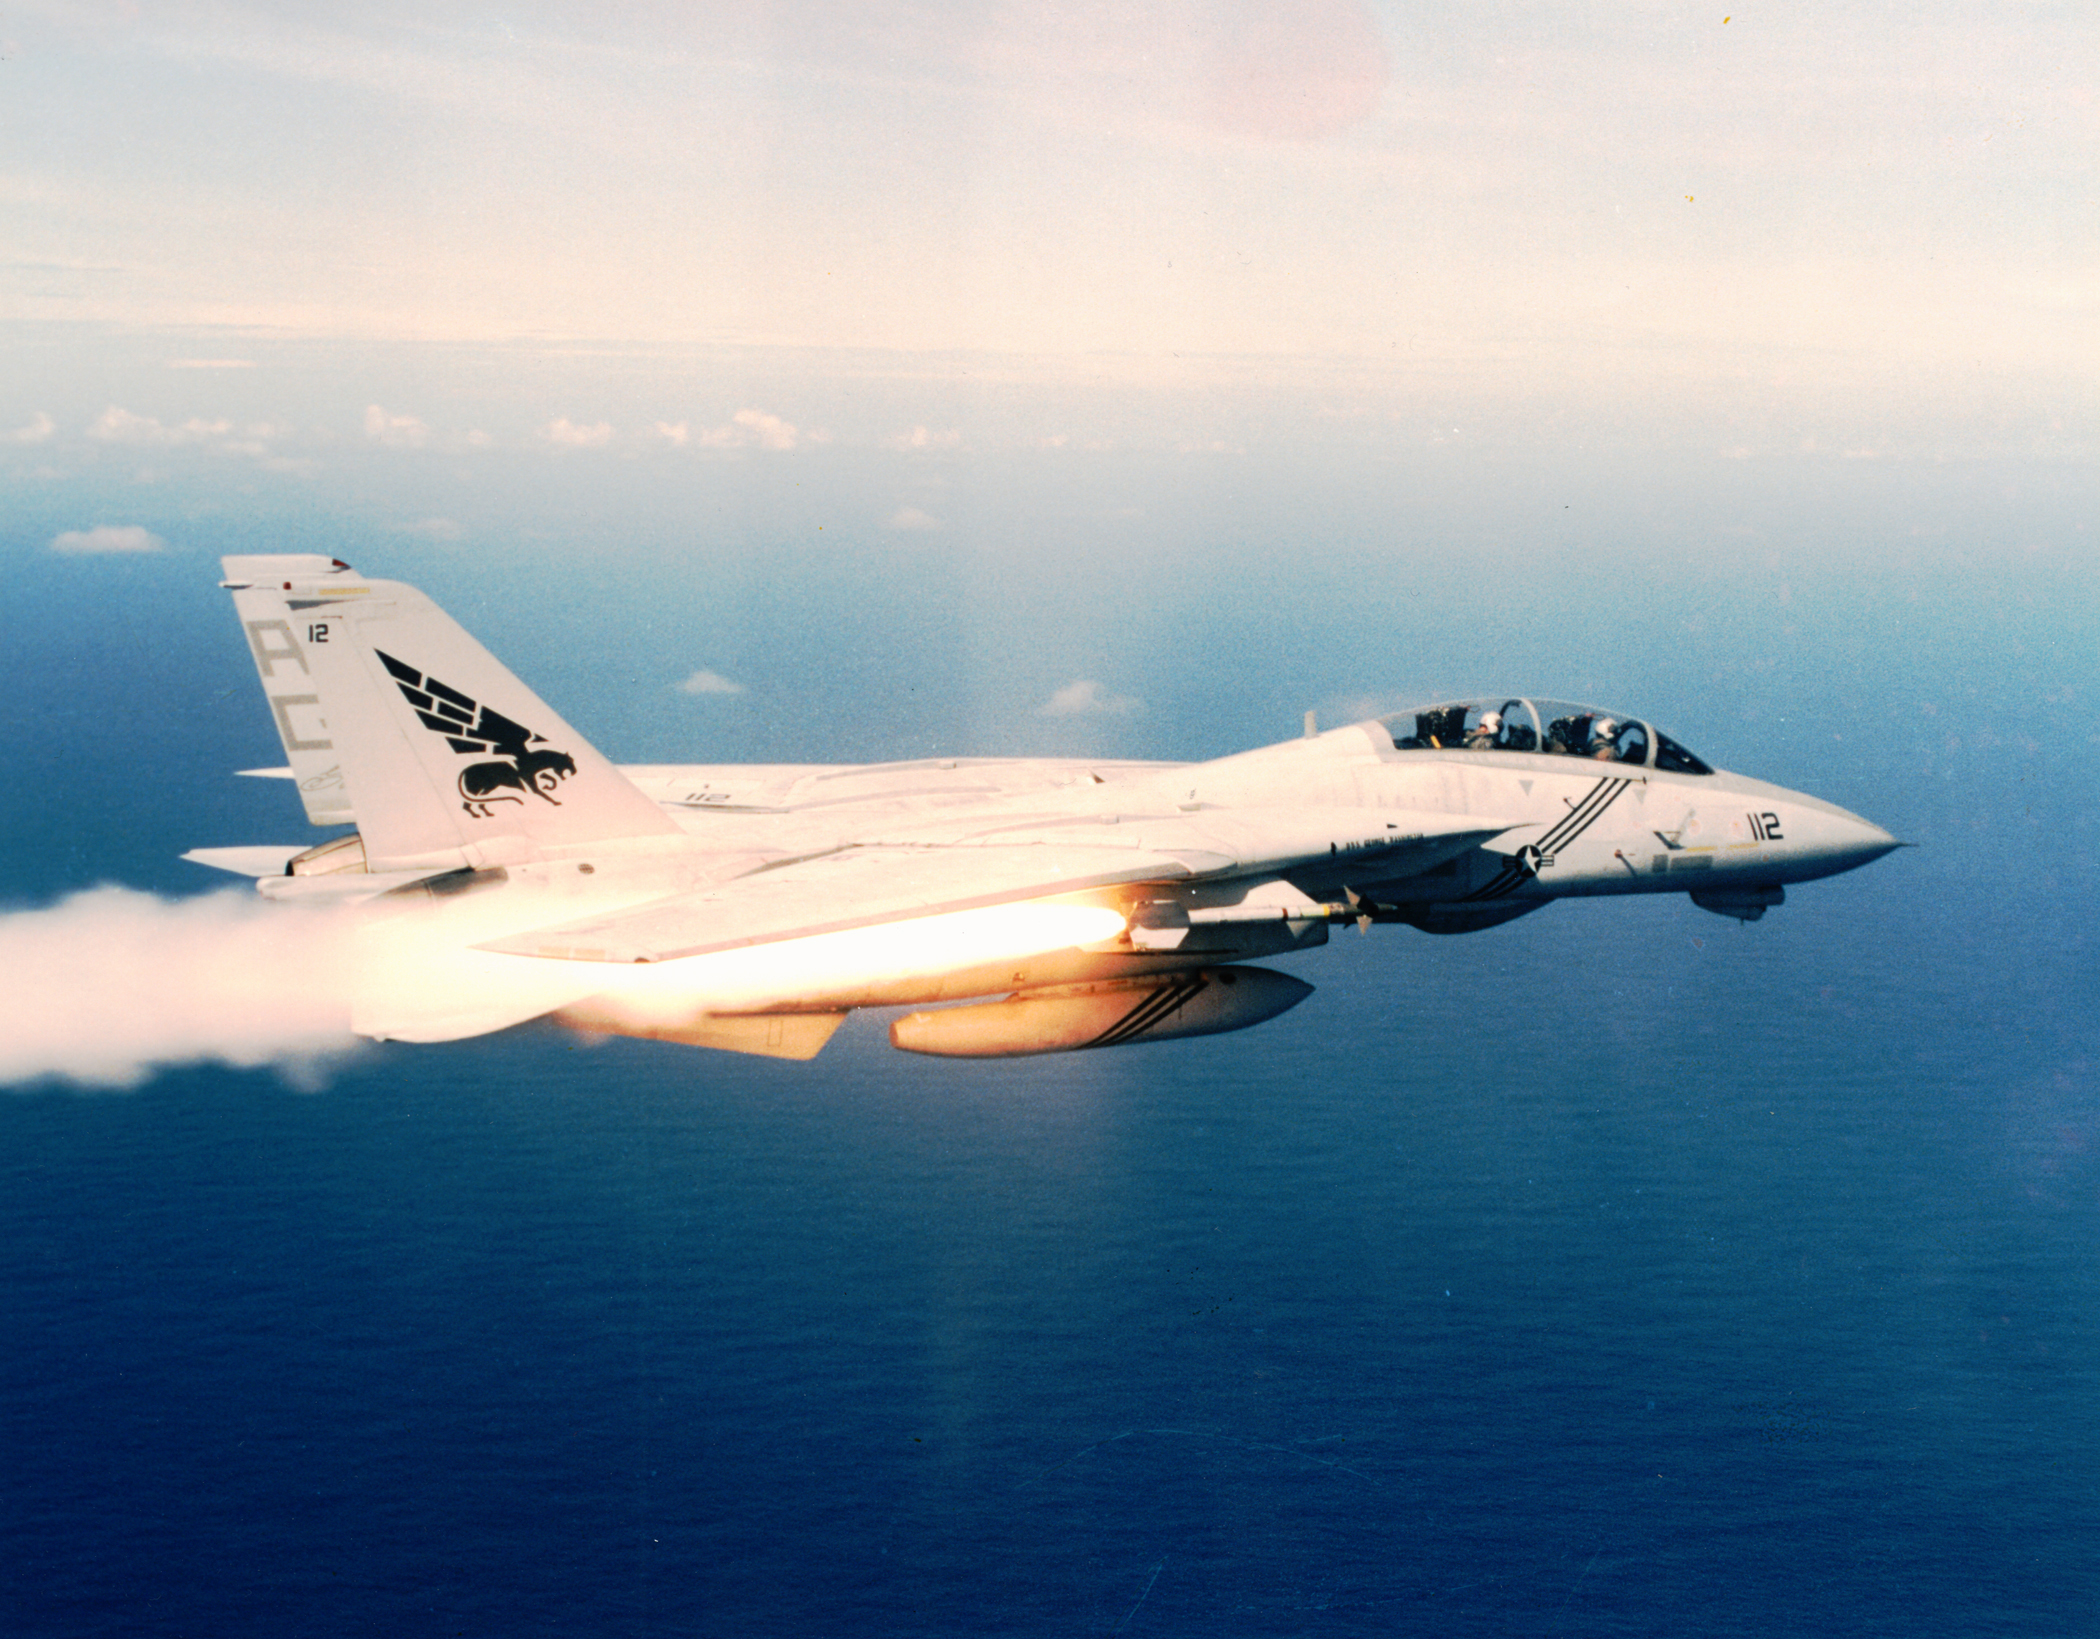F14: (177, 554, 1921, 1061)
